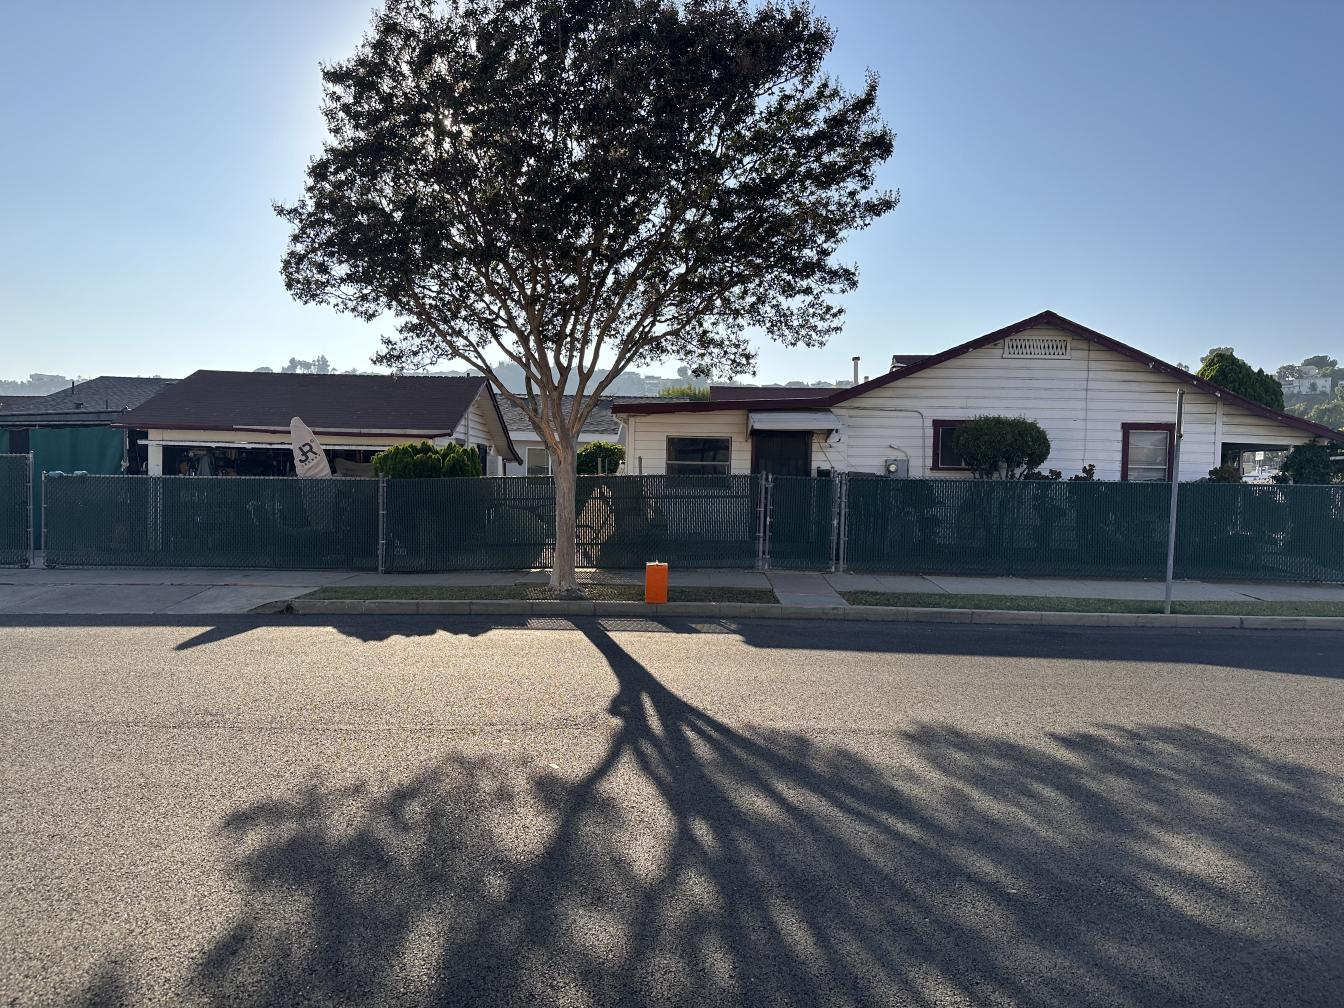curbs-laRr: (923, 606, 1344, 633), (293, 598, 646, 618), (648, 602, 916, 622)
orange box: (647, 561, 668, 604)
